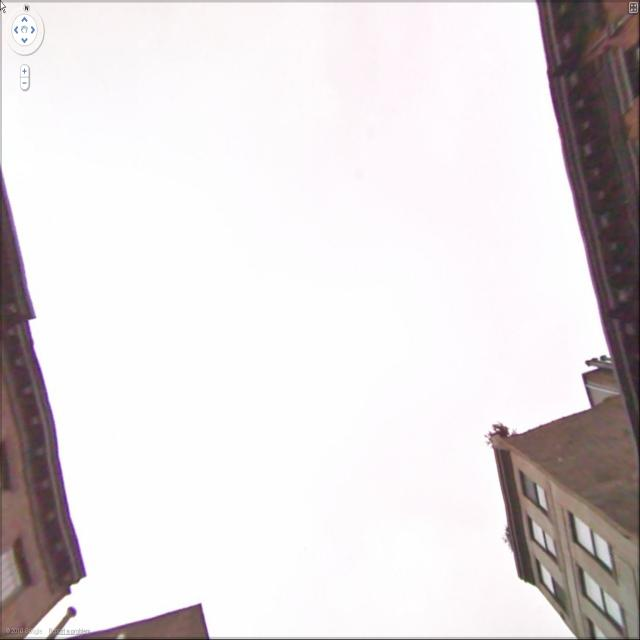b_1: (483, 386, 640, 637)
